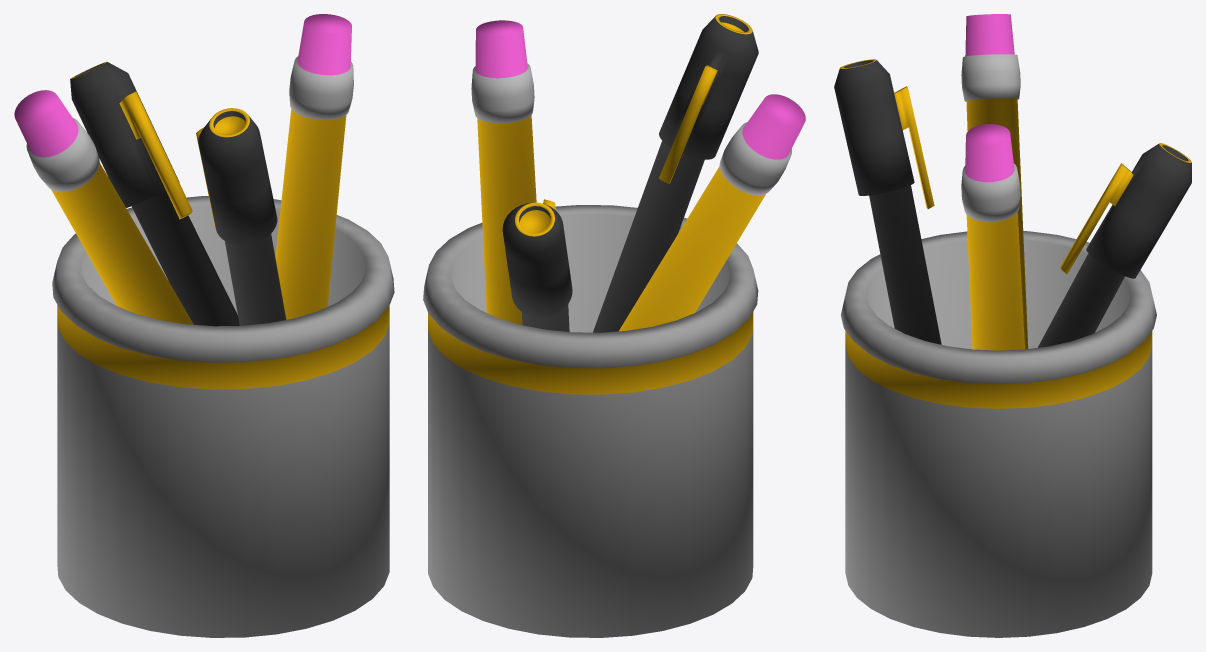
The model's file is penholder.fbx.
The picture shows the model from 3 angles, left to right: view 1: azimuth 30°, elevation 25°; view 2: azimuth 150°, elevation 25°; view 3: azimuth 270°, elevation 25°; orthographic projection. The views are drawn at different scales.
Visible parts, largest first — view 1: Cylinder; view 2: Cylinder; view 3: Cylinder.
Part boxes in pixels (x1=…): Cylinder: x1=14, y1=14, x2=394, y2=637; Cylinder: x1=423, y1=14, x2=805, y2=637; Cylinder: x1=834, y1=14, x2=1191, y2=637.
Bounding box in the file's own units: 249 × 354 × 233.
